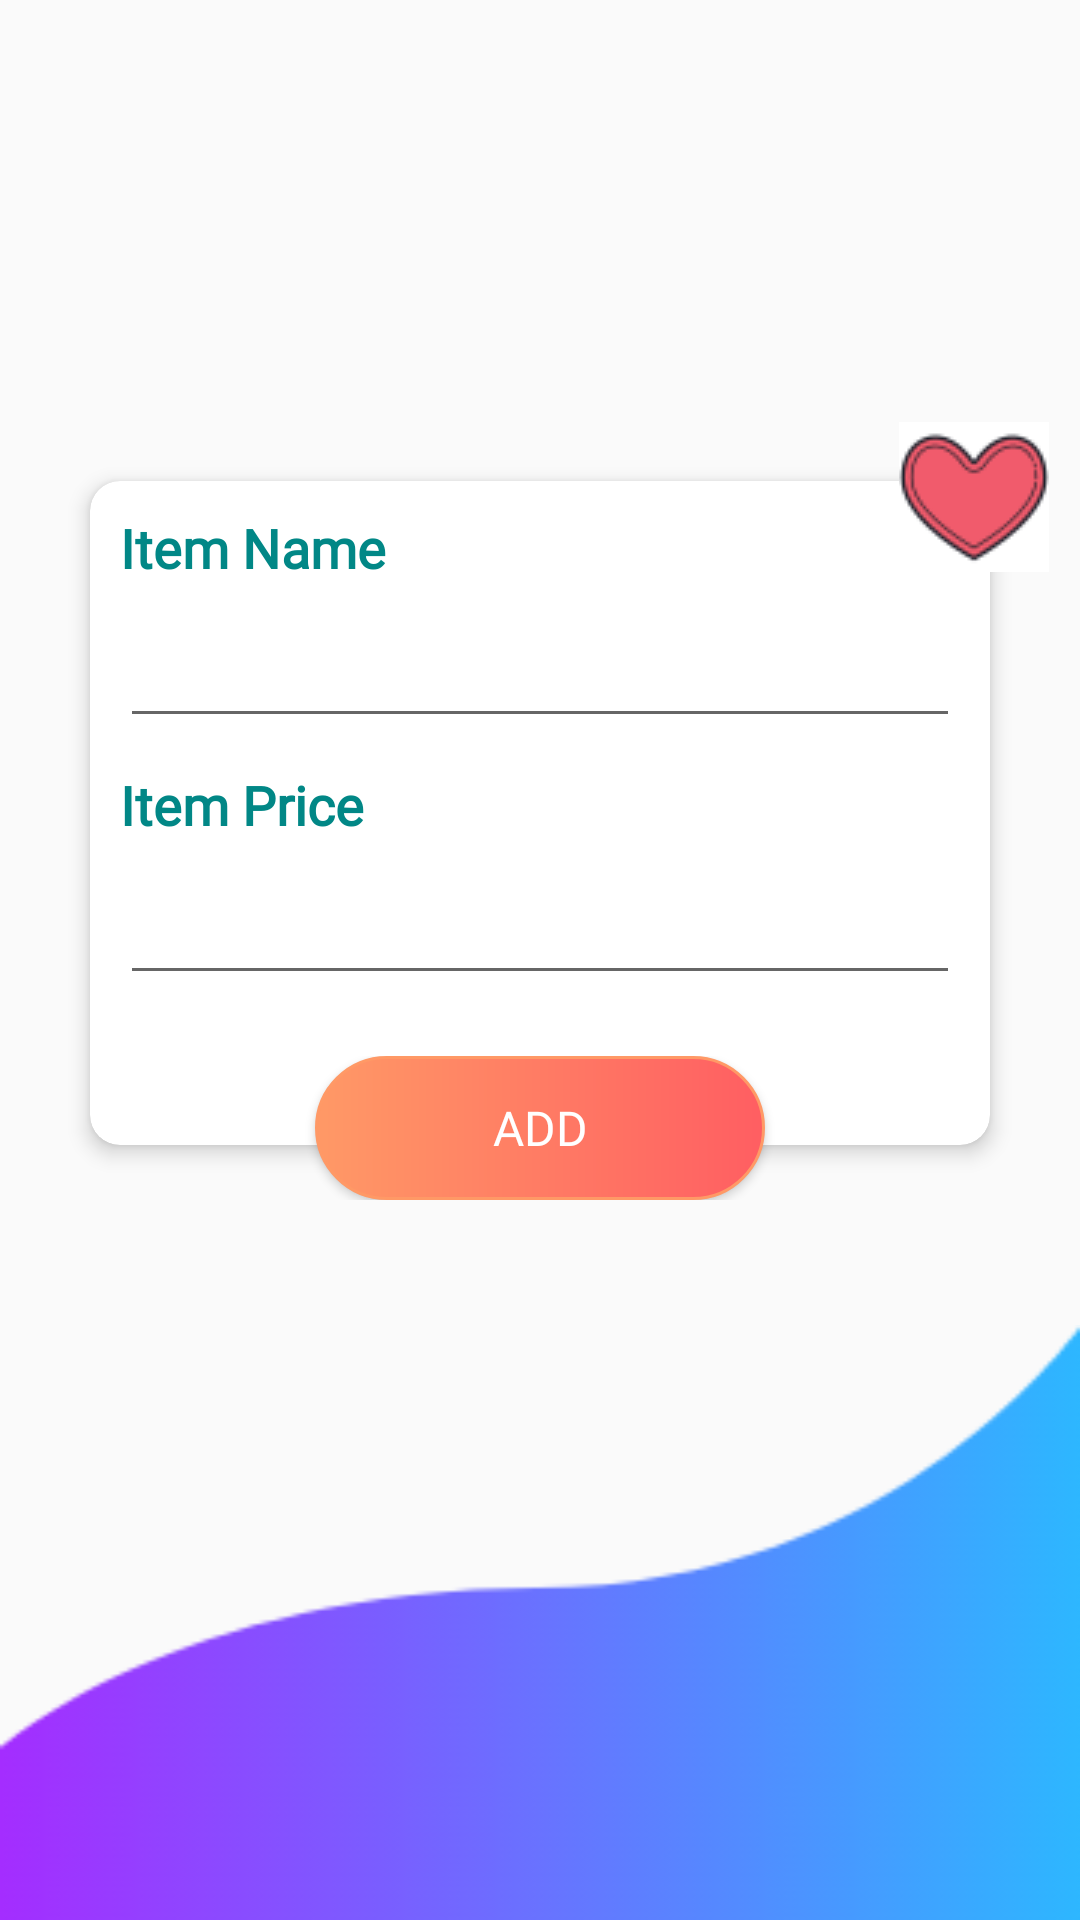

Where to tap for icons on this 1080 × 1920 app screen, as (x=x, y=y):
add wishlist: (x=974, y=497)
